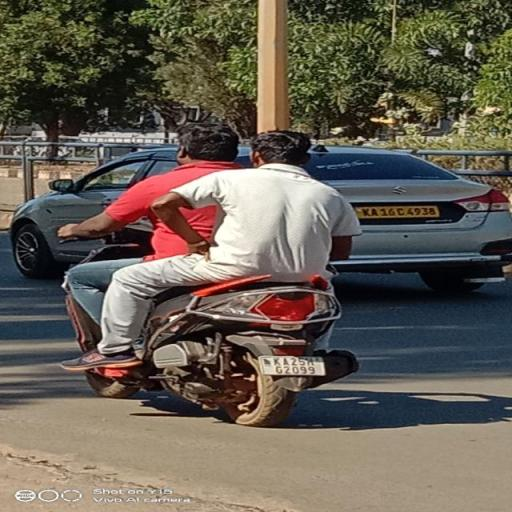bike: (51, 119, 363, 424)
numberplate: (260, 355, 326, 377)
withouthelmet: (178, 124, 237, 164), (253, 131, 311, 167)
